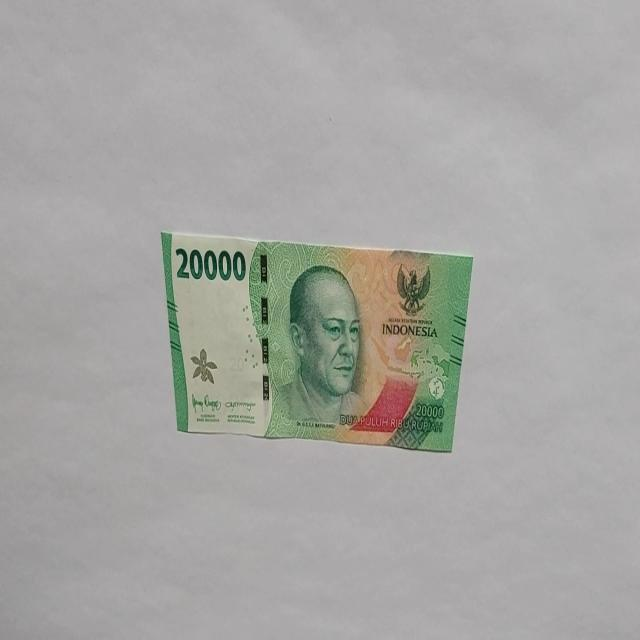dua puluh ribu rupiah: (160, 228, 474, 452), (268, 262, 370, 439)
